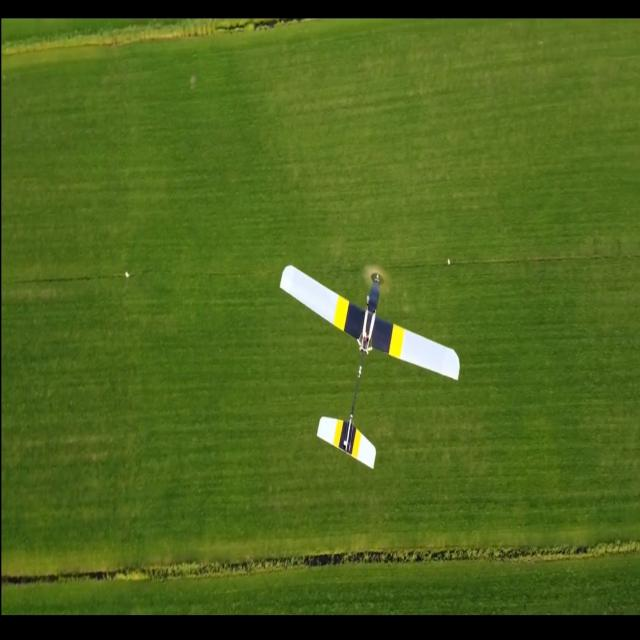iha: (282, 250, 461, 474)
